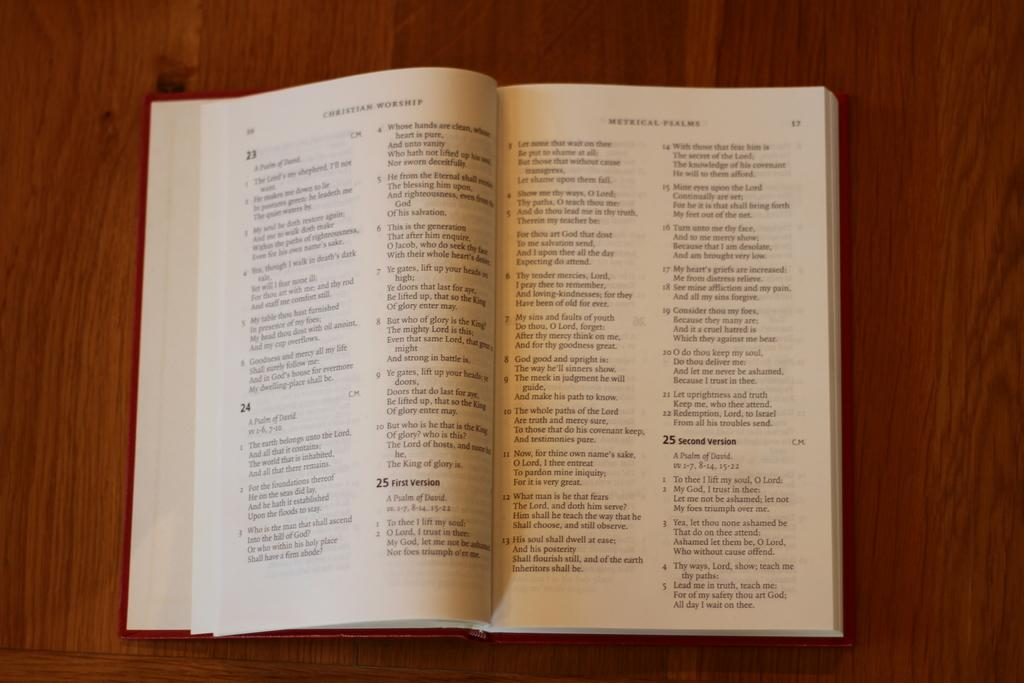book: (123, 63, 850, 648)
